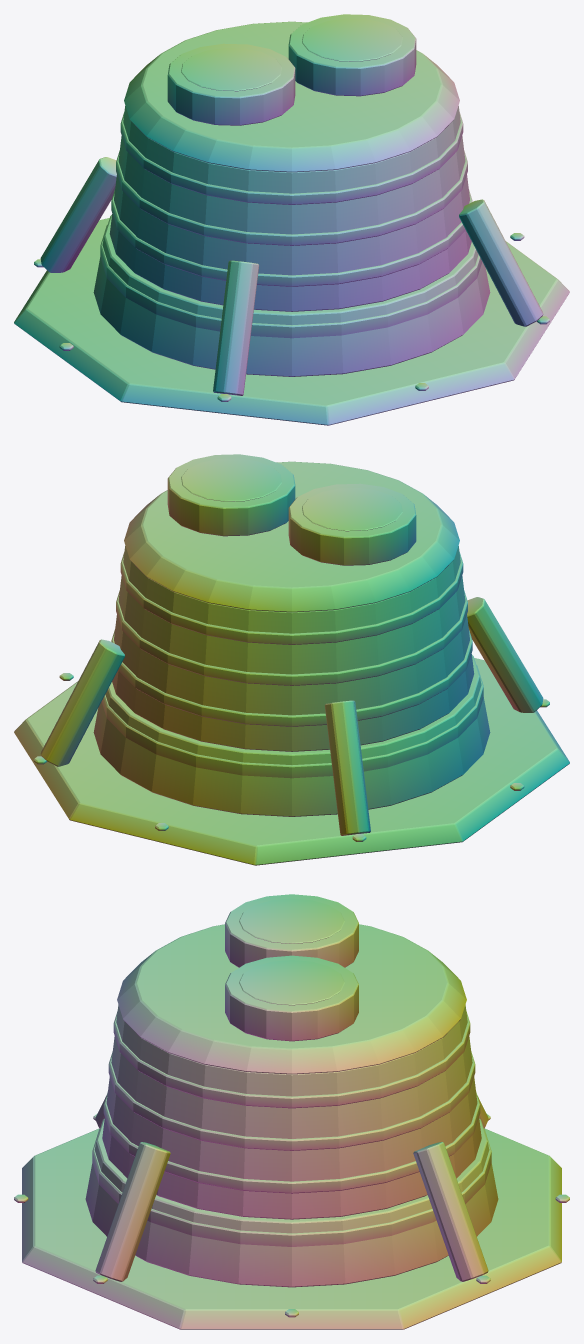
The model's file is powerplant_rig.glb.
The picture shows the model from 3 angles, top to bottom: view 1: azimuth 30°, elevation 25°; view 2: azimuth 150°, elevation 25°; view 3: azimuth 270°, elevation 25°; orthographic projection. The views are drawn at different scales.
Visible parts, largest first — view 1: body; view 2: body; view 3: body.
Boxes of the visible parts, left/top/right/bottom form: body: left=14, top=14, right=569, bottom=425; body: left=14, top=454, right=569, bottom=865; body: left=14, top=894, right=569, bottom=1329.
Bounding box in the file's own units: 19.88 × 10.45 × 19.91.
